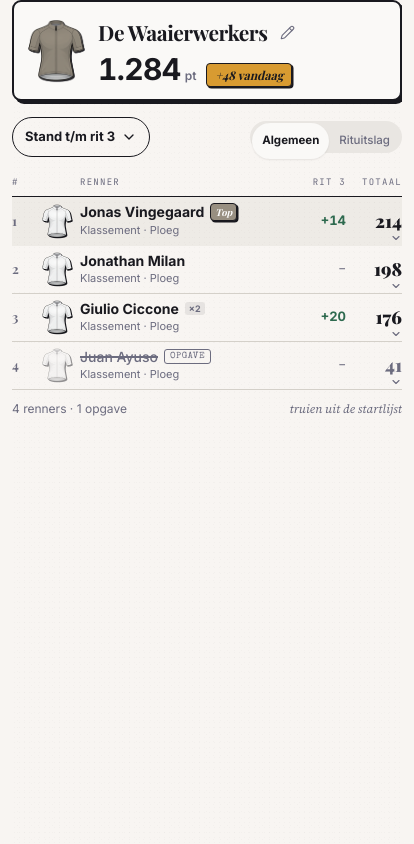
Test case: PloegCWeergave › houdt één renner tegelijk open en toont de joker per rit
This screenshot has width=414, height=844.
Click the button "1 Jonas Vingegaard Top Klassement · Ploeg +14 214" at (207, 221), box [12,197,402,244]
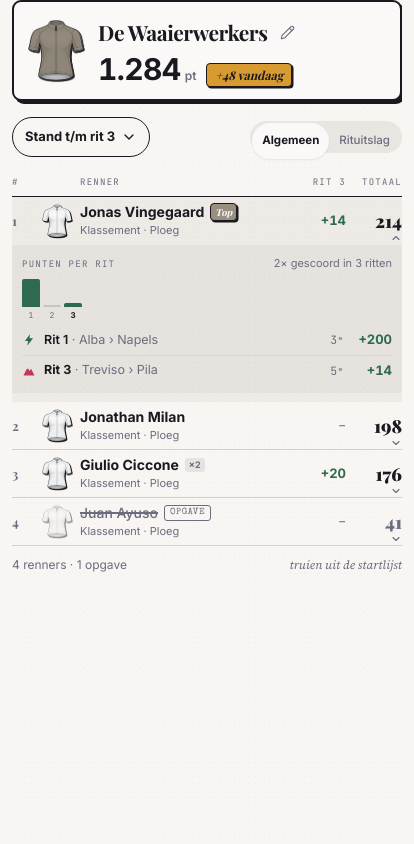
Click the button "3 Giulio Ciccone ×2 Klassement · Ploeg +20 176" at (207, 474), box [12,450,402,497]
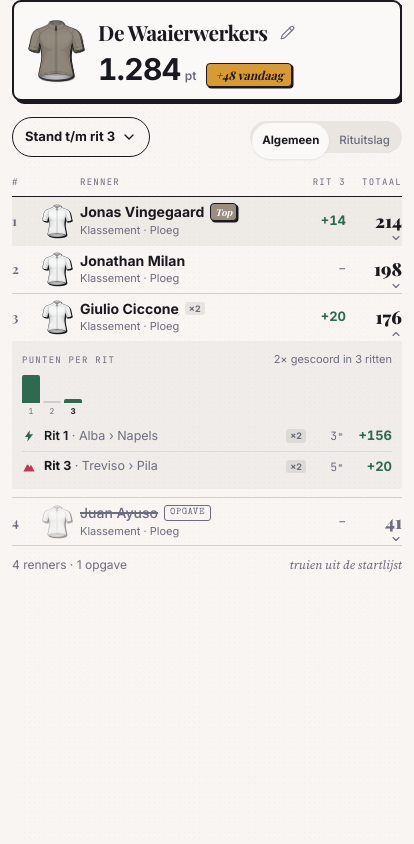
Result: the number of elements "Punten per rit" is 1 at [12,340,402,489]
